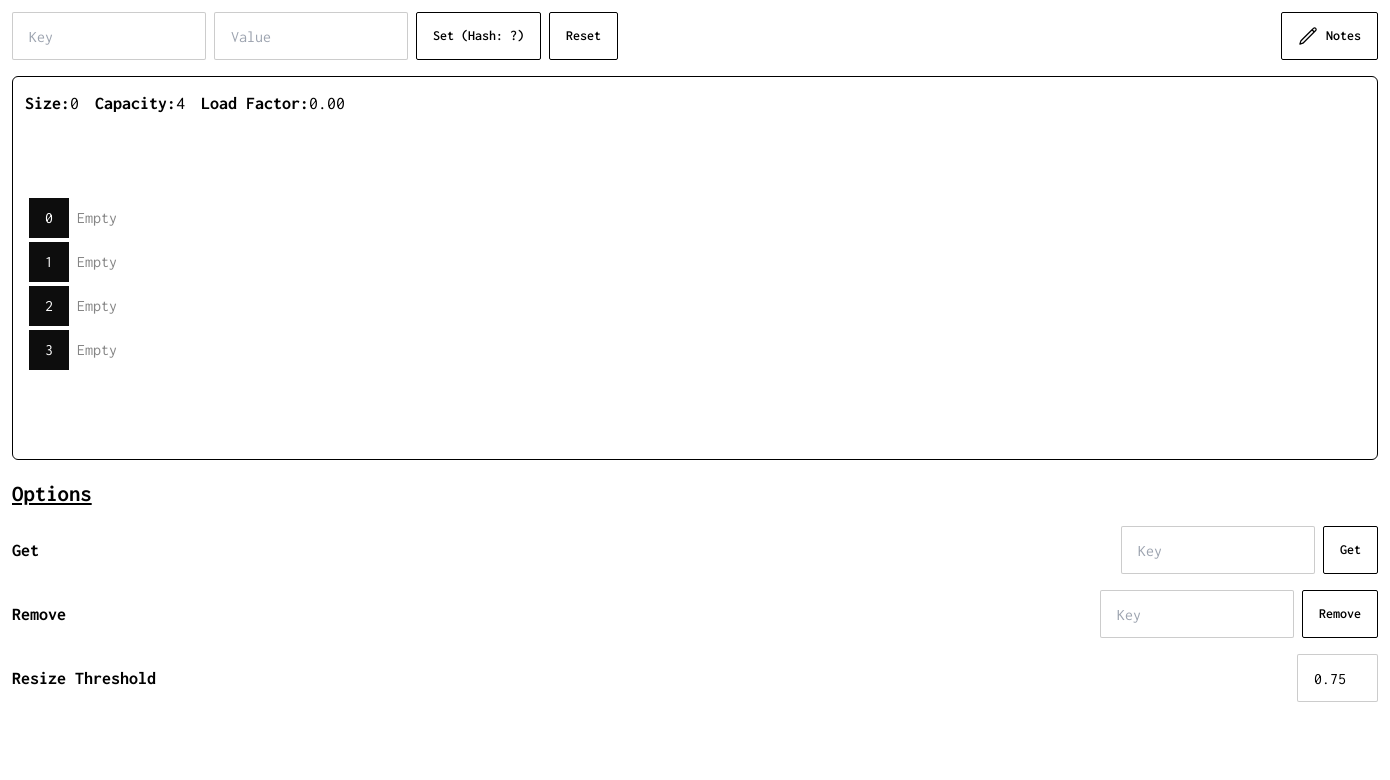
Scenario: HashTablePG › should set key-value pair correctly when user clicks "Set" button with valid input
Type "0" into the field with test id "set-key-input" at (109,36), box [12,12,206,60]
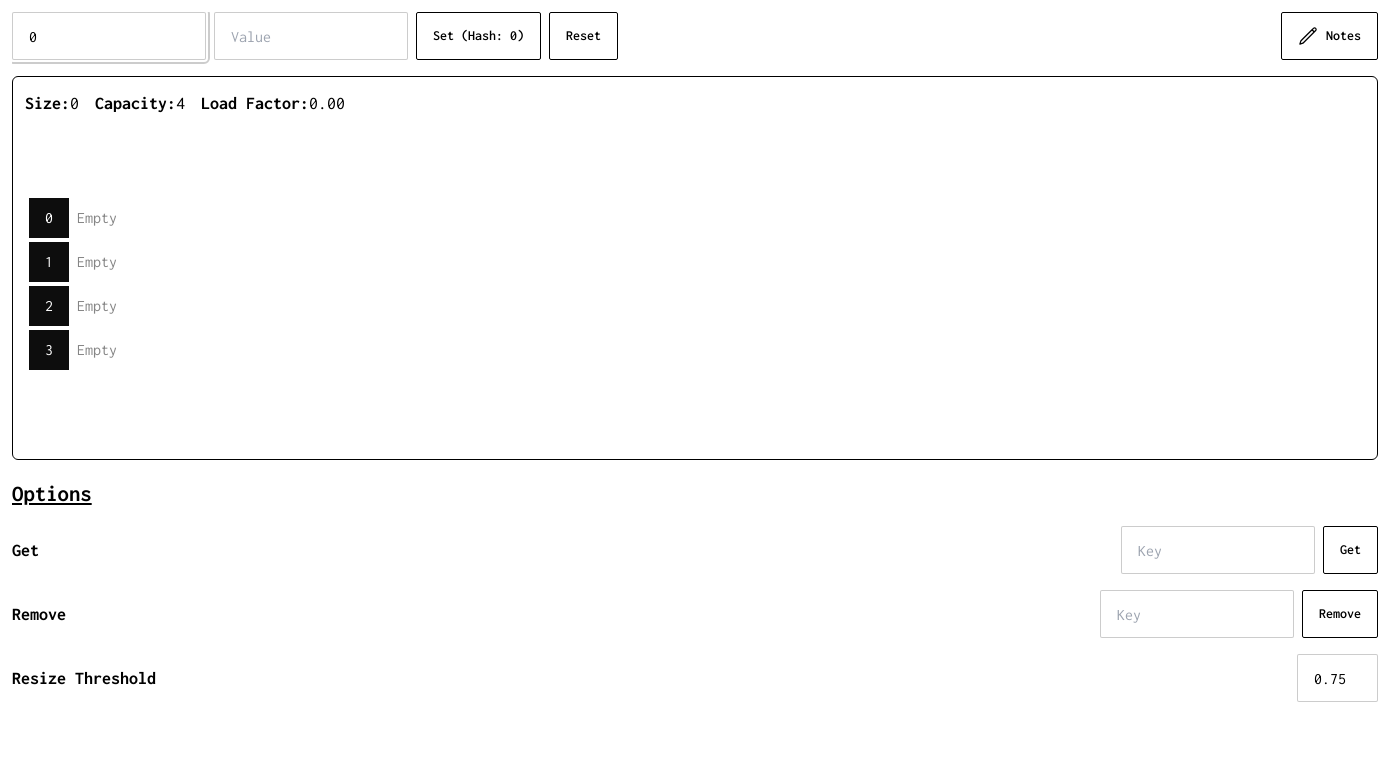
Type "0" into the field with test id "set-value-input" at (311,36), box [214,12,408,60]
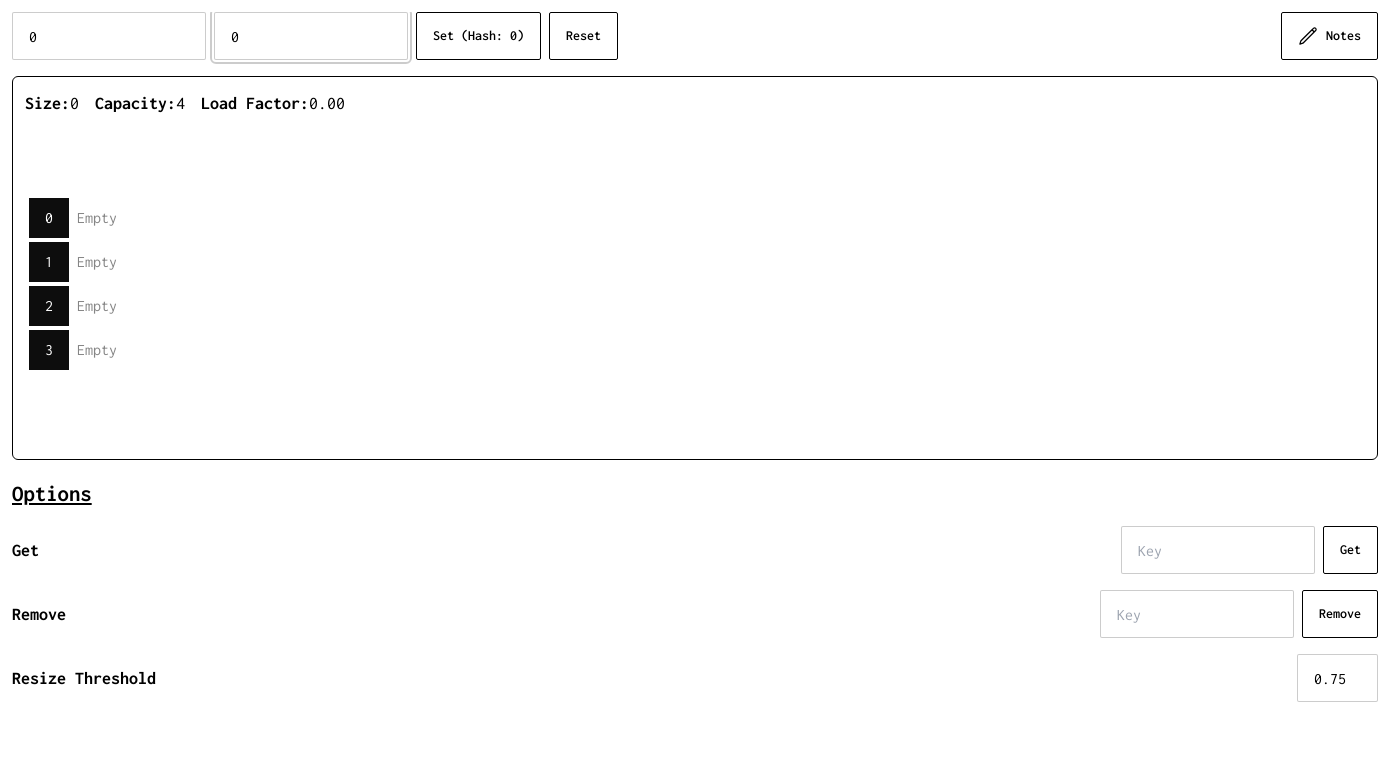
Click the button "Set (Hash: 0)" at (478,36), box [416,12,541,60]
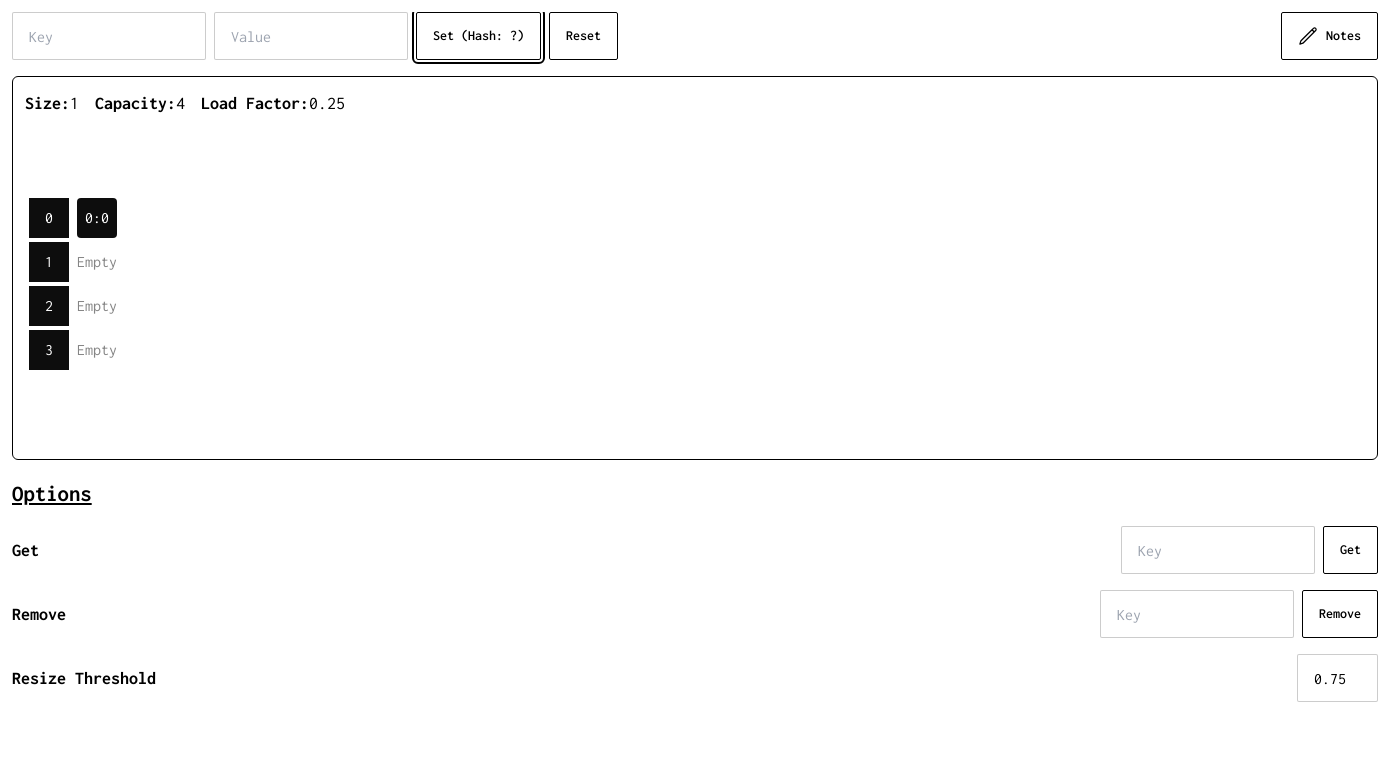
Now the text with test id "size" reads "1", box [70,94,79,112]
Now the number of elements with test id "bucket-0-node" is 1, box [77,198,117,238]
Now the element with test id "bucket-0-node" reads "0:0", box [77,198,117,238]
